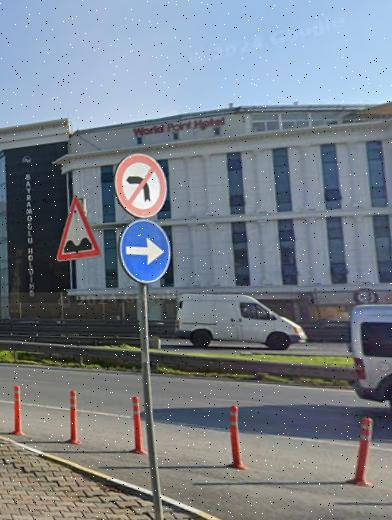rightturnsareforbidden: (115, 155, 168, 215)
turnright: (121, 221, 170, 277)
